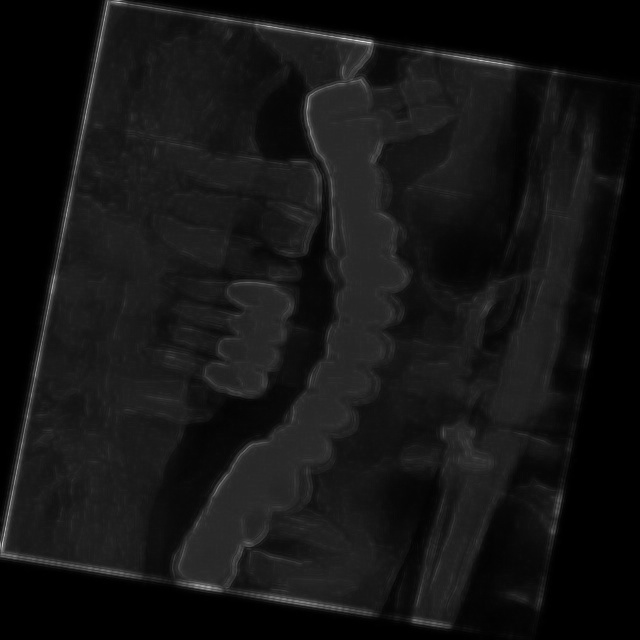Class 1- complete endodontic treatment: (178, 462, 386, 576), (124, 297, 292, 391), (87, 366, 236, 446)
Class 2- incomplete endodontic treatment: (284, 46, 467, 182), (146, 522, 377, 614)
cavity: (145, 259, 302, 319)
